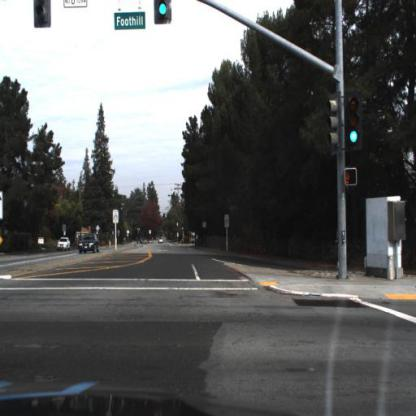car: (80, 234, 99, 254), (56, 236, 74, 252)
